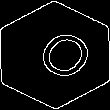O_SW: (19, 23, 91, 87)
